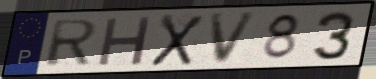3: (311, 9, 357, 62)
8: (259, 12, 300, 62)
H: (95, 15, 155, 69)
R: (43, 17, 101, 69)
V: (208, 10, 261, 67)
X: (147, 13, 207, 68)
